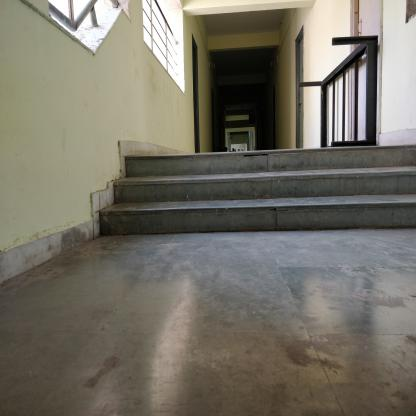stairs: (124, 148, 416, 236)
